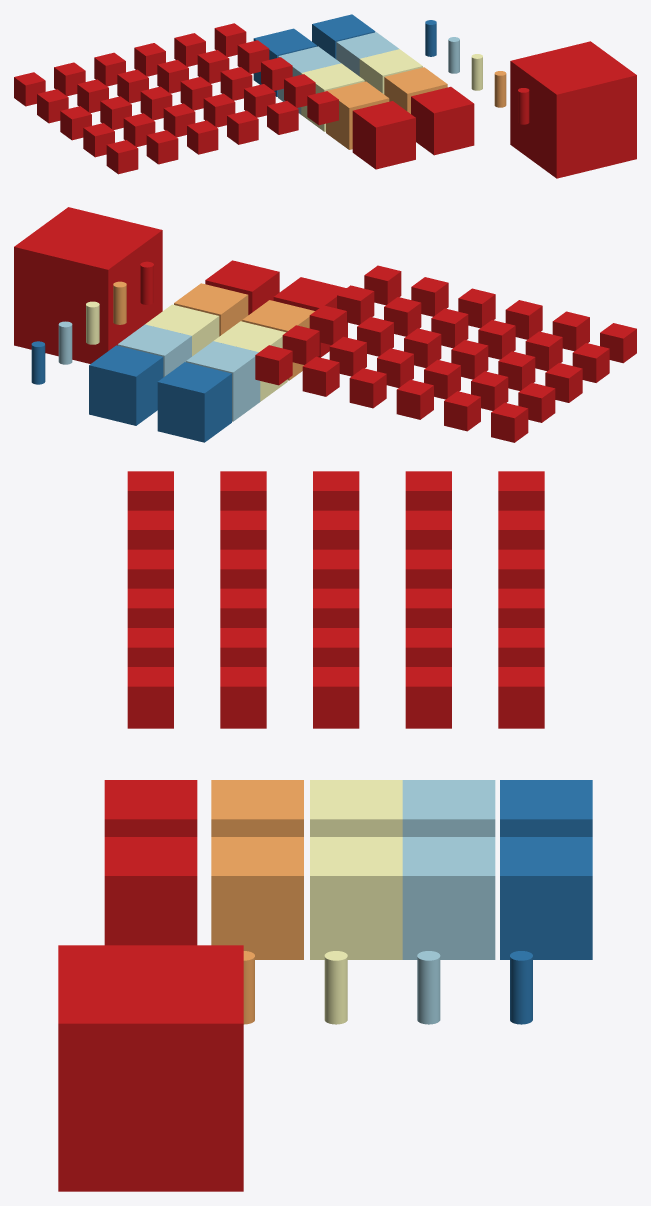
The model's file is copyright_free.glb.
3 views of the same model, one above another, from view 1: azimuth 30°, elevation 25°; view 2: azimuth 150°, elevation 25°; view 3: azimuth 270°, elevation 25° (orthographic). The views are drawn at different scales.
Parts seen in each view (by area): view 1: Pointer-1-parent, Pawn-3-parent.005, Pawn-2-parent.001, Pawn-3-parent.004, Pawn-2-parent.002, Pawn-2-parent.003, Pawn-2-parent.005, Pawn-2-parent.004, Pawn-3-parent.003, Pawn-3-parent.001, Pawn-3-parent.002, Chess-Queen-parent.001 (+34 smaller); view 2: Pointer-1-parent, Pawn-3-parent.001, Pawn-2-parent.005, Pawn-3-parent.002, Pawn-2-parent.001, Pawn-2-parent.002, Pawn-2-parent.004, Pawn-2-parent.003, Pawn-3-parent.005, Pawn-3-parent.003, Pawn-3-parent.004, Chess-King-parent.005 (+34 smaller); view 3: Pointer-1-parent, Pawn-2-parent.004, Pawn-2-parent.003, Pawn-2-parent.005, Pawn-2-parent.002, Pawn-2-parent.001, Pawn-3-parent.002, Pawn-3-parent.005, Pawn-3-parent.001, Pawn-3-parent.003, Pawn-3-parent.004, Chess-Pawn-parent.001 (+32 smaller).
Boxes of the visible parts, x1,y1,x2,y2 form: Pointer-1-parent: [510, 41, 636, 178]; Pawn-3-parent.005: [352, 101, 415, 169]; Pawn-2-parent.001: [411, 86, 474, 155]; Pawn-3-parent.004: [326, 81, 389, 149]; Pawn-2-parent.002: [384, 67, 447, 113]; Pawn-2-parent.003: [359, 49, 422, 94]; Pawn-2-parent.005: [312, 14, 375, 58]; Pawn-2-parent.004: [336, 32, 398, 76]; Pawn-3-parent.003: [301, 63, 364, 131]; Pawn-3-parent.001: [253, 28, 316, 96]; Pawn-3-parent.002: [278, 46, 340, 114]; Chess-Queen-parent.001: [146, 130, 178, 164]; Pointer-1-parent: [14, 207, 162, 363]; Pawn-3-parent.001: [157, 362, 231, 442]; Pawn-2-parent.005: [89, 345, 163, 425]; Pawn-3-parent.002: [186, 341, 260, 421]; Pawn-2-parent.001: [205, 260, 279, 314]; Pawn-2-parent.002: [174, 283, 248, 336]; Pawn-2-parent.004: [117, 324, 191, 377]; Pawn-2-parent.003: [145, 304, 219, 356]; Pawn-3-parent.005: [273, 277, 347, 357]; Pawn-3-parent.003: [214, 321, 287, 401]; Pawn-3-parent.004: [242, 300, 314, 380]; Chess-King-parent.005: [491, 402, 528, 442]; Pointer-1-parent: [58, 945, 243, 1191]; Pawn-2-parent.004: [402, 837, 495, 959]; Pawn-2-parent.003: [310, 837, 402, 959]; Pawn-2-parent.005: [500, 837, 592, 959]; Pawn-2-parent.002: [211, 837, 303, 959]; Pawn-2-parent.001: [104, 837, 197, 945]; Pawn-3-parent.002: [402, 780, 495, 836]; Pawn-3-parent.005: [104, 780, 197, 836]; Pawn-3-parent.001: [500, 780, 592, 836]; Pawn-3-parent.003: [310, 780, 402, 836]; Pawn-3-parent.004: [211, 780, 303, 836]; Chess-Pawn-parent.001: [127, 667, 173, 728].
Size of the model in its own units: 12.5 by 2.75 by 5.77.
